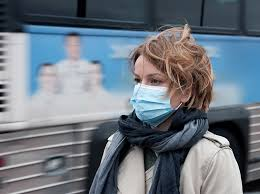surgical: (129, 82, 172, 129)
